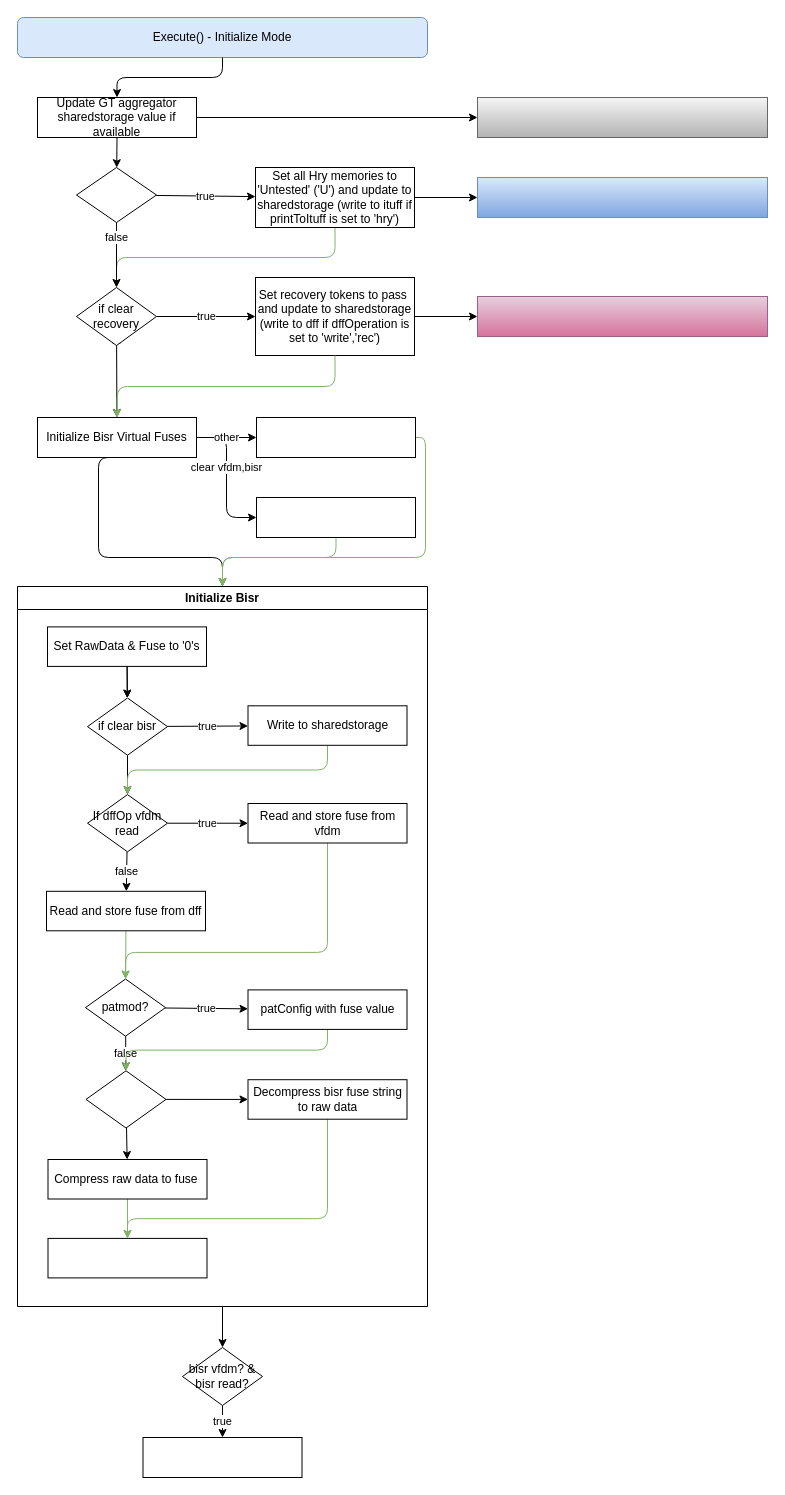
Some shapes in this 785 by 1495 pixel diagram are drawn without their labels. The shapes that lost their labels are listed below. From the top down, each one's centre as x and y in pixels, then its label:
(622,117): GTAGG = 'HryMemoryList'
(116,194): if clear Hry
(622,197): Hry String = 'U's
(622,316): Recovery String = 'P's
(336,437): Read virtual fuses and store the fuses
(336,517): Reset virtual fuses
(125,1099): bisr compress mode?
(127,1257): Update the latest raw data and bisr fuse data to sharedstorage and/or dff
(222,1457): Update bisr virtual fuse with latest bisr fuse string
